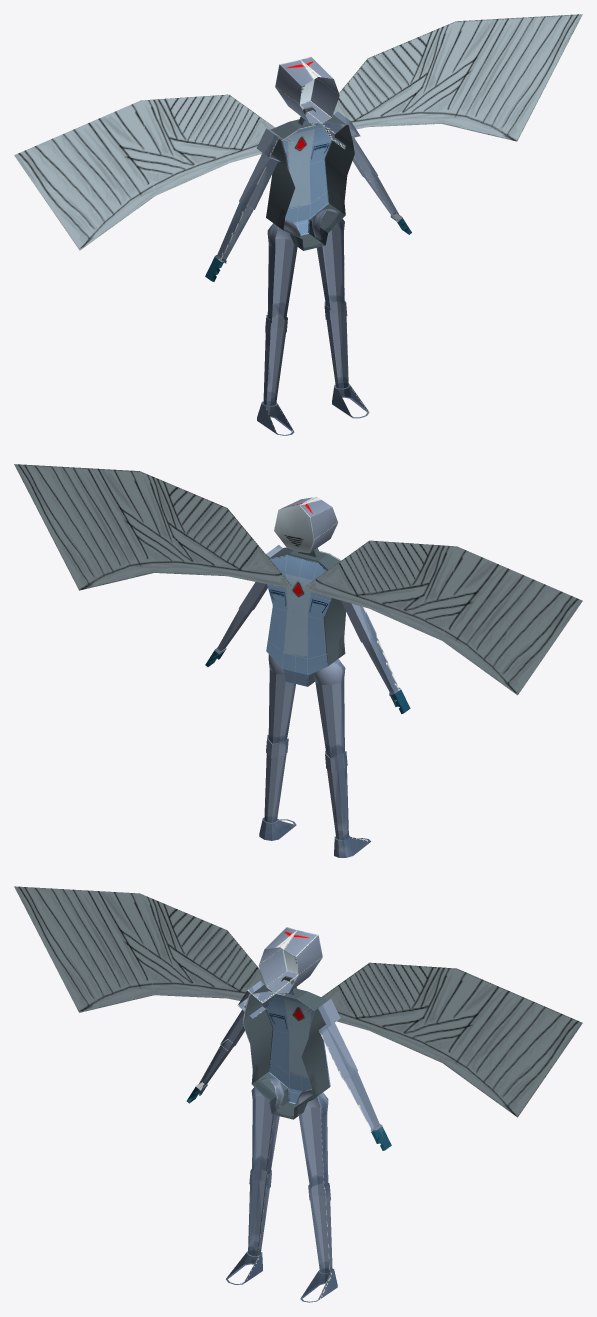
Rendered from Main_2.FBX.
3 views of the same model, one above another, from view 1: azimuth 30°, elevation 25°; view 2: azimuth 150°, elevation 25°; view 3: azimuth 330°, elevation 25° (orthographic).
Visible parts, largest first — view 1: Box001; view 2: Box001; view 3: Box001.
Boxes of the visible parts, box(x1,y1,x2,y2) form: Box001: box(14, 14, 582, 435); Box001: box(14, 464, 582, 857); Box001: box(14, 886, 582, 1302).
Size of the model in its own units: 356 by 207 by 35.32.
1 material, 1 textured.
